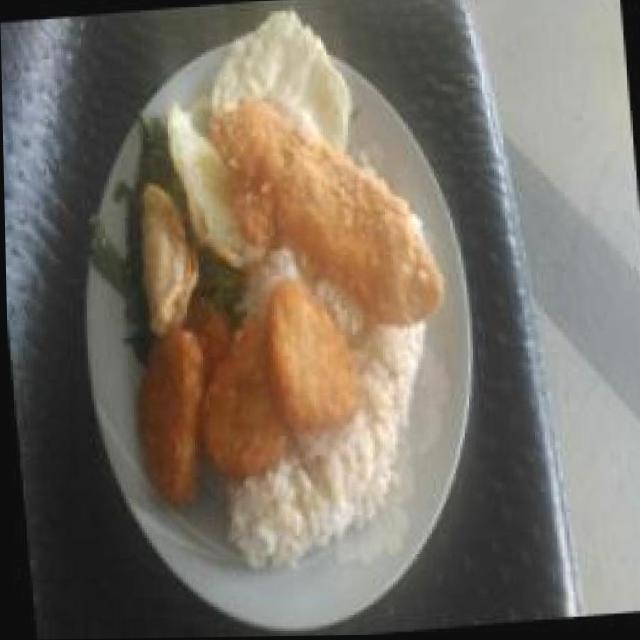fried_chicken: (220, 115, 434, 320)
fried_dumplings: (131, 183, 201, 334)
fried_eggs: (165, 6, 355, 266)
rice: (260, 385, 398, 547)
triangle_hash_brown: (120, 279, 362, 512)
water_spinach: (127, 116, 176, 197)
